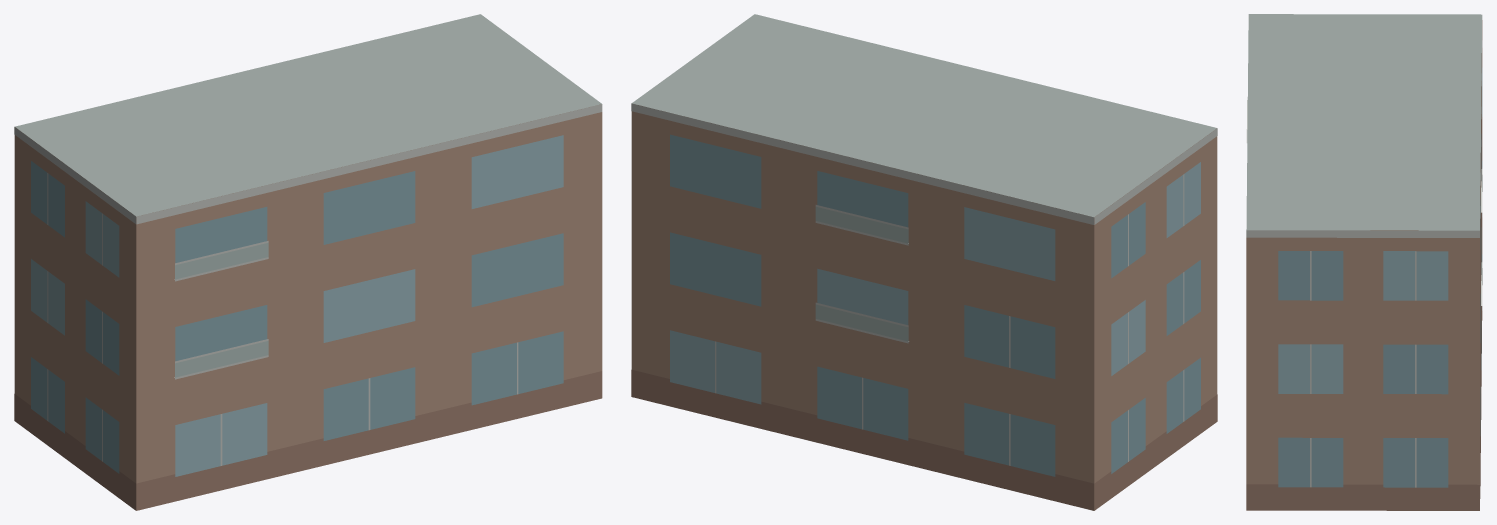
Rendered from survey-upis-32902105.glb.
The picture shows the model from 3 angles, left to right: view 1: azimuth 30°, elevation 25°; view 2: azimuth 150°, elevation 25°; view 3: azimuth 270°, elevation 25°; orthographic projection. The views are drawn at different scales.
Parts seen in each view (by area): view 1: survey-upis-32902105.tmp; view 2: survey-upis-32902105.tmp; view 3: survey-upis-32902105.tmp.
Part boxes in pixels (left/top/right/bottom): survey-upis-32902105.tmp: left=14, top=14, right=602, bottom=510; survey-upis-32902105.tmp: left=631, top=14, right=1217, bottom=510; survey-upis-32902105.tmp: left=1246, top=14, right=1482, bottom=510.
Size of the model in its own units: 15.09 by 9.1 by 6.96.
